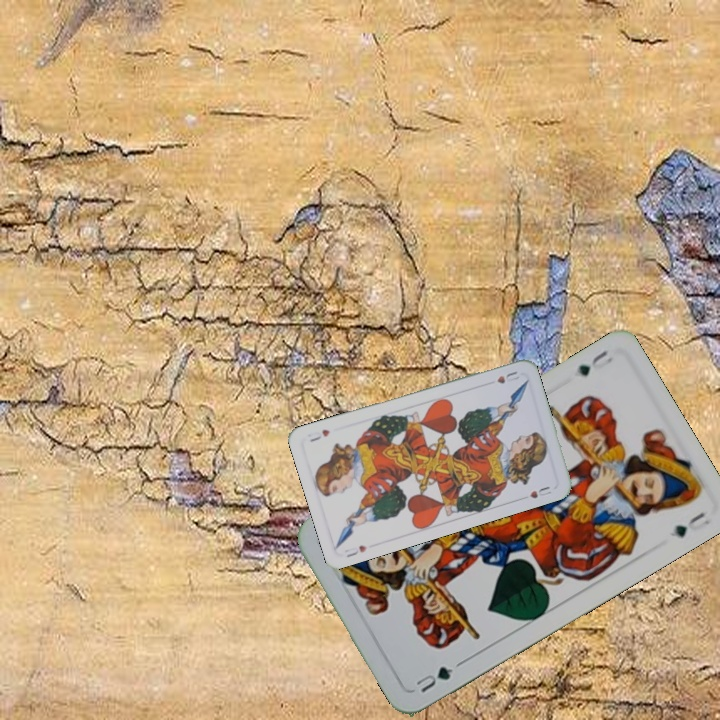GU: (411, 662, 456, 696), (572, 346, 616, 379)
HU: (493, 367, 522, 386), (342, 541, 369, 560)
